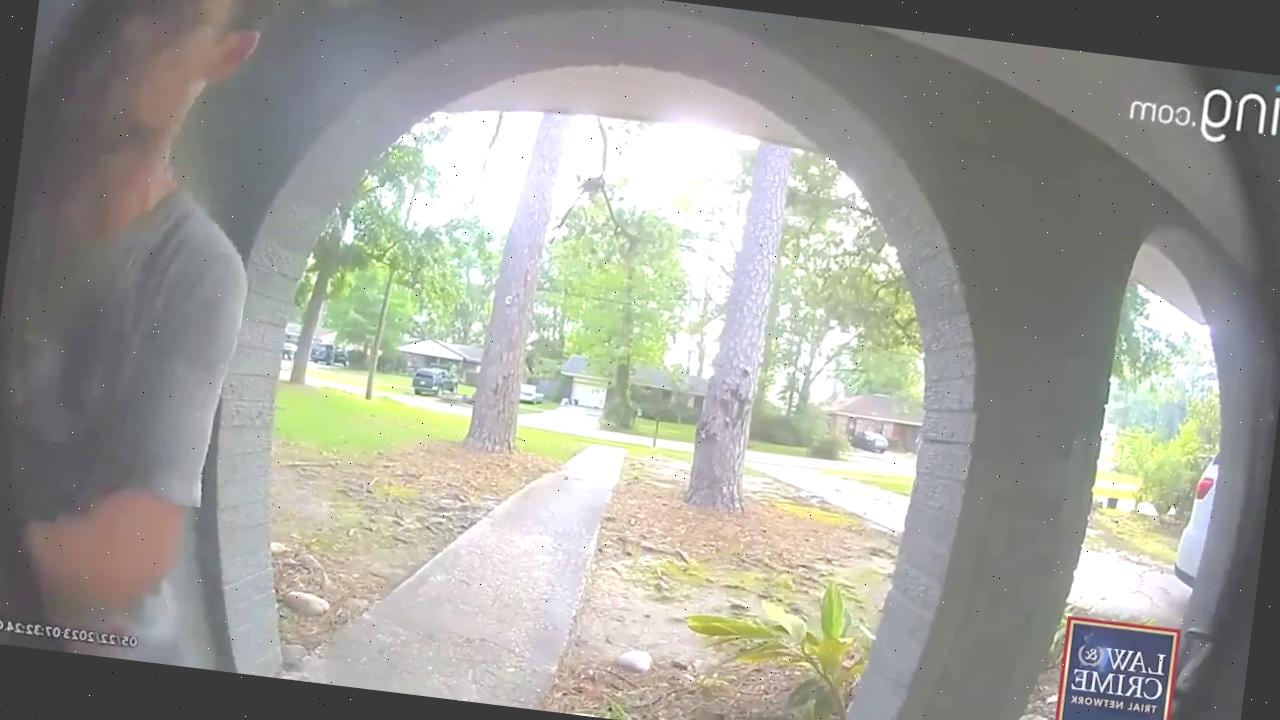suspicion: (0, 0, 388, 639)
